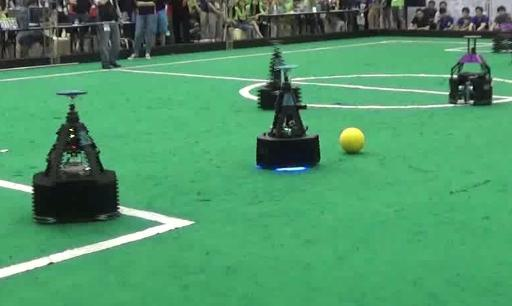robot: (25, 88, 125, 225), (251, 59, 323, 171), (447, 34, 495, 108)
